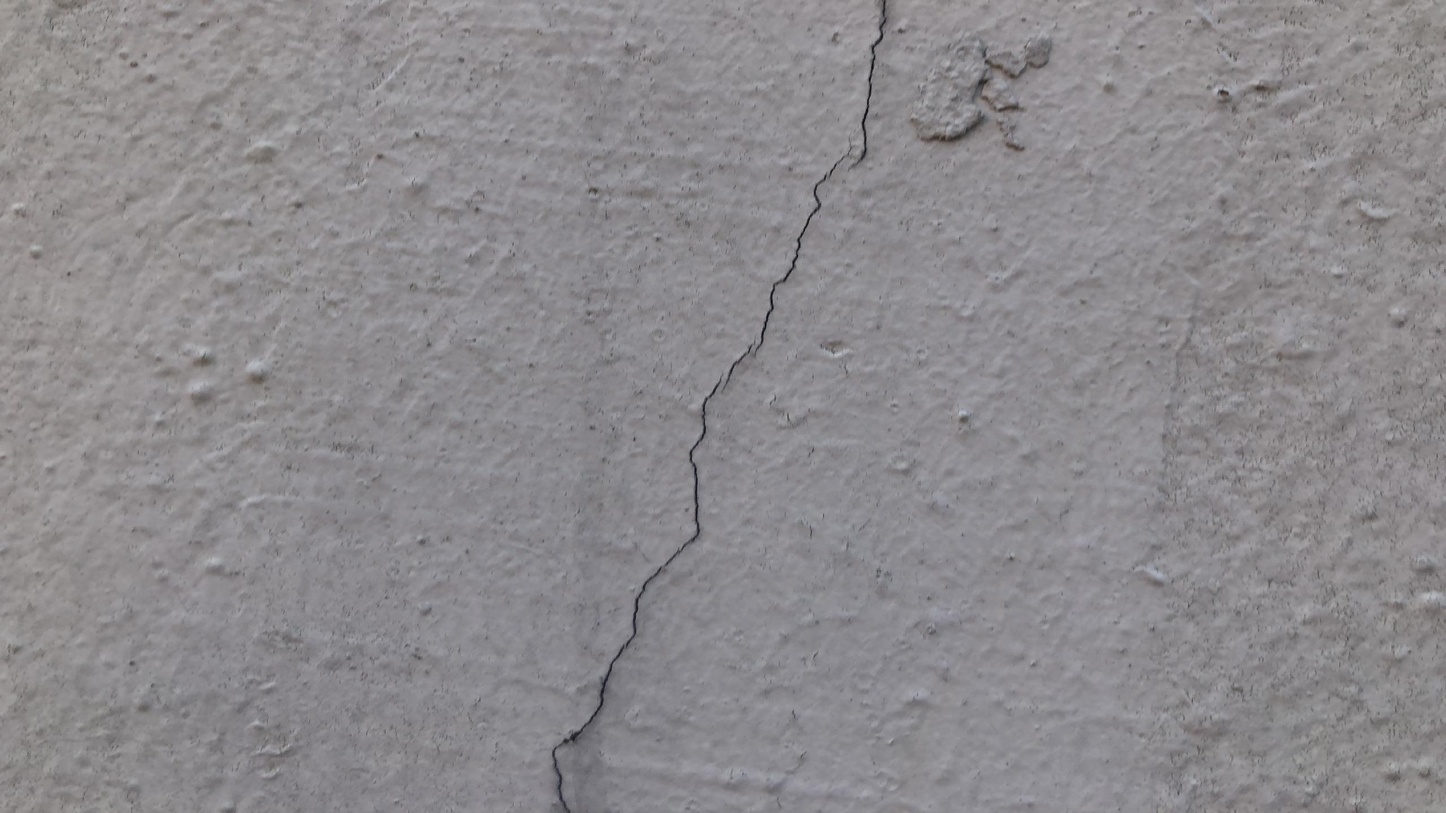crack: (551, 149, 849, 810), (859, 1, 887, 161)
